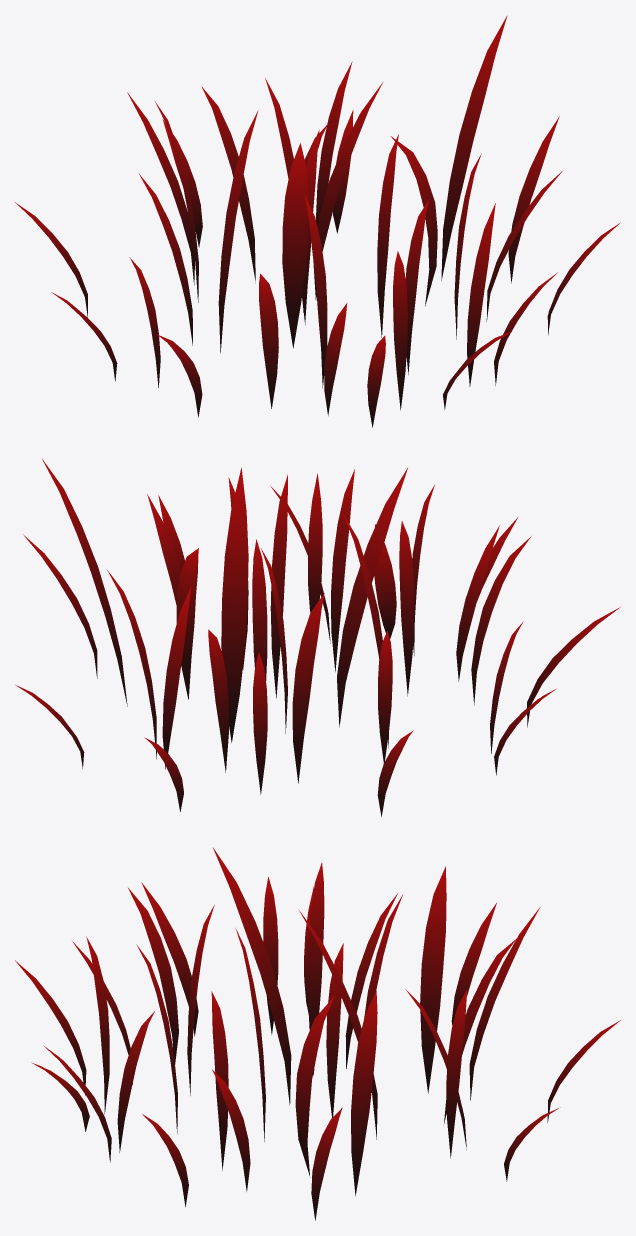
The model's file is Grass.fbx.
3 renders of one model, top to bottom at view 1: azimuth 30°, elevation 25°; view 2: azimuth 150°, elevation 25°; view 3: azimuth 270°, elevation 25°, orthographic.
Parts seen in each view (by area): view 1: Grass; view 2: Grass; view 3: Grass.
Part boxes in pixels (x1=…): Grass: x1=15, y1=15, x2=620, y2=427; Grass: x1=15, y1=459, x2=620, y2=816; Grass: x1=15, y1=847, x2=620, y2=1220.
Bounding box in the file's own units: 3.83 × 1.69 × 3.8.
